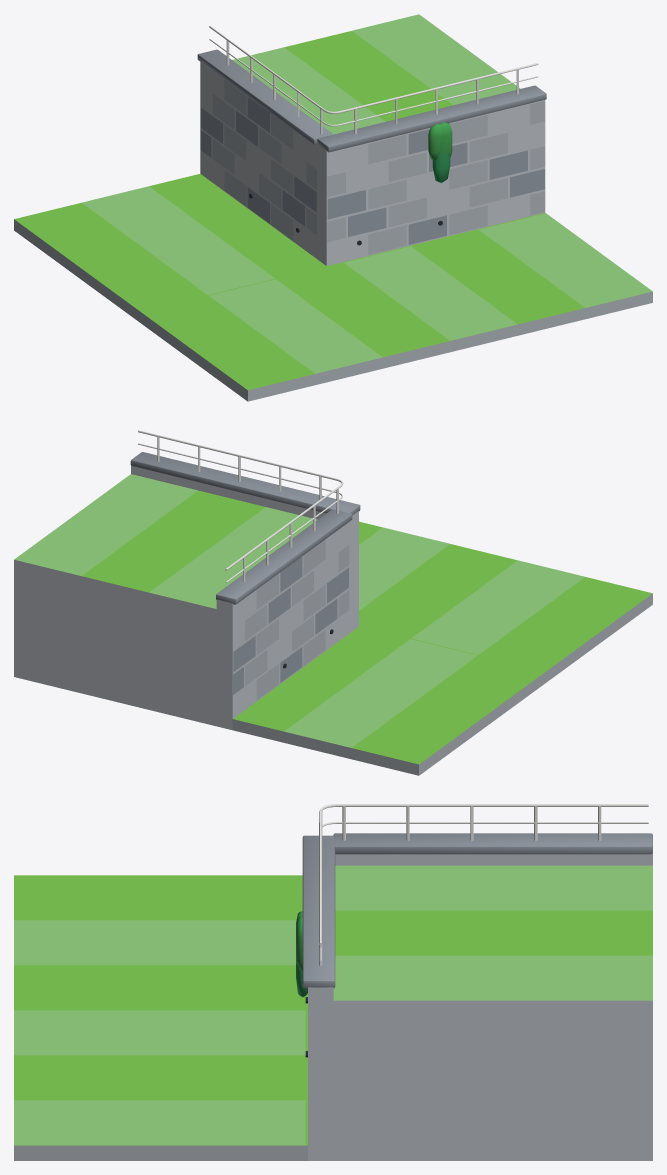
File: plato_canto_ext.glb
3 views of the same model, one above another, from view 1: azimuth 30°, elevation 25°; view 2: azimuth 150°, elevation 25°; view 3: azimuth 270°, elevation 25° (orthographic). The views are drawn at different scales.
Visible parts, largest first — view 1: plato_canto_ext; view 2: plato_canto_ext; view 3: plato_canto_ext.
Boxes of the visible parts, box(x1,y1,x2,y2) form: plato_canto_ext: box(14, 14, 652, 401); plato_canto_ext: box(14, 430, 652, 775); plato_canto_ext: box(14, 804, 652, 1160).
Size of the model in its own units: 15 by 5.6 by 15.
Materials: 1 (1 with a texture image).
